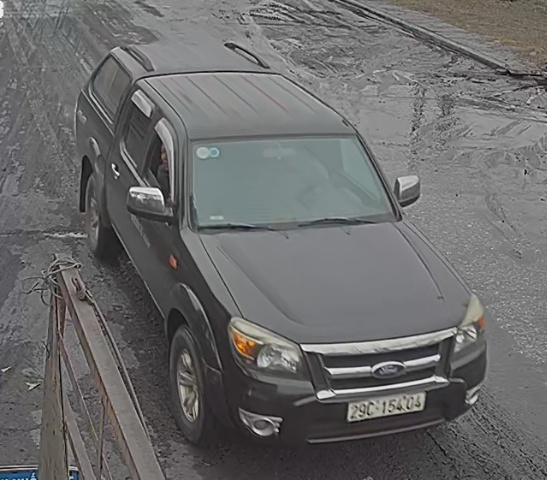vehicle plate: (347, 391, 433, 421)
